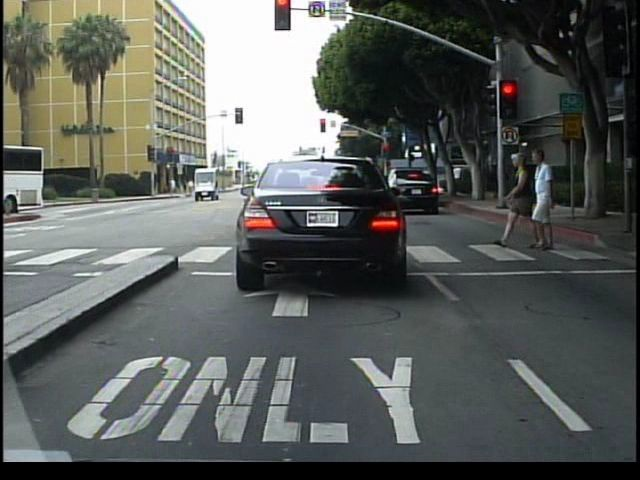person: (531, 147, 566, 253), (505, 150, 537, 258)
